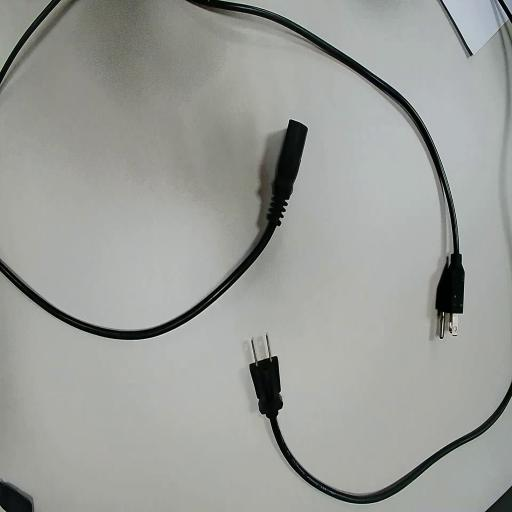wire: (188, 0, 463, 319), (0, 121, 306, 338), (250, 357, 511, 502)
